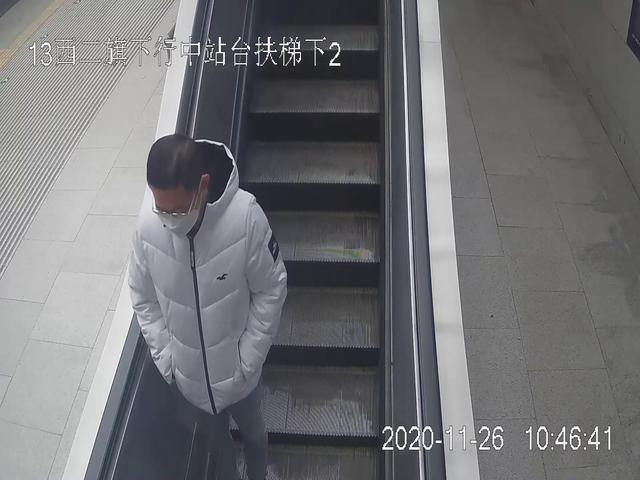person: (129, 135, 288, 480)
